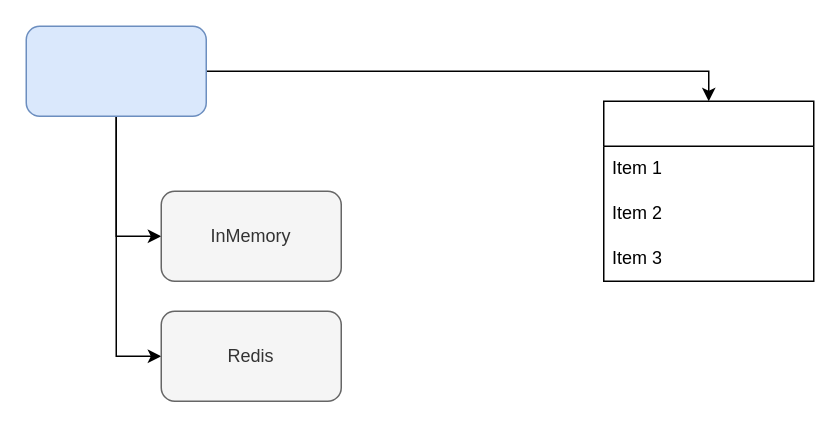
Some shapes in this 840 by 428 pixel diagram are drawn without their labels. The box of each missing label's shape, as (x1, y1, x2, y2) in pixels:
Cache: (25, 25, 206, 116)
ICachable<T>: (602, 100, 814, 281)
